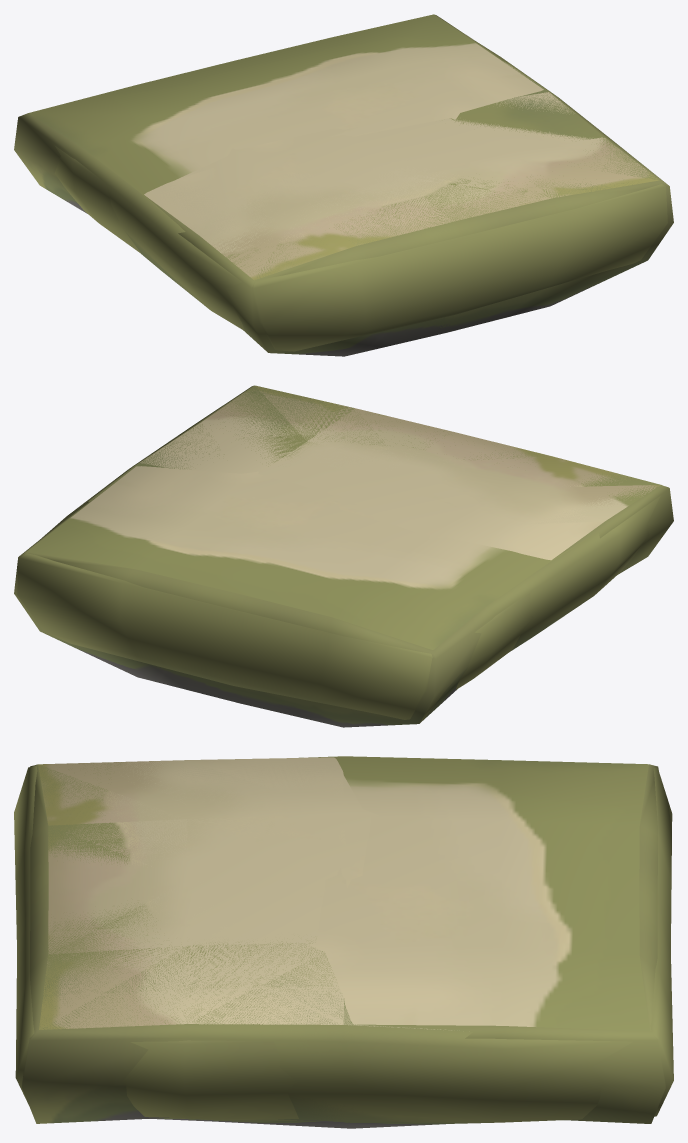
File: PR_Tiles_v01.gltf
3 renders of one model, top to bottom at view 1: azimuth 30°, elevation 25°; view 2: azimuth 150°, elevation 25°; view 3: azimuth 270°, elevation 25°, orthographic. The views are drawn at different scales.
Parts seen in each view (by area): view 1: PR_Lvl1_Tile_8, PR_Lvl1_Tile_1, PR_Lvl1_Tile_2; view 2: PR_Lvl1_Tile_8, PR_Lvl1_Tile_1, PR_Lvl1_Tile_2; view 3: PR_Lvl1_Tile_1, PR_Lvl1_Tile_8, PR_Lvl1_Tile_2.
Part boxes in pixels (left/top/right/bottom): PR_Lvl1_Tile_8: left=14, top=14, right=667, bottom=351; PR_Lvl1_Tile_1: left=144, top=43, right=673, bottom=352; PR_Lvl1_Tile_2: left=54, top=66, right=668, bottom=356; PR_Lvl1_Tile_8: left=14, top=466, right=668, bottom=727; PR_Lvl1_Tile_1: left=42, top=385, right=673, bottom=719; PR_Lvl1_Tile_2: left=17, top=385, right=660, bottom=719; PR_Lvl1_Tile_1: left=22, top=757, right=673, bottom=1125; PR_Lvl1_Tile_8: left=14, top=756, right=665, bottom=1128; PR_Lvl1_Tile_2: left=22, top=757, right=673, bottom=1123.
Size of the model in its own units: 2.14 by 0.6447 by 2.1.
Materials: 1 (1 with a texture image).
